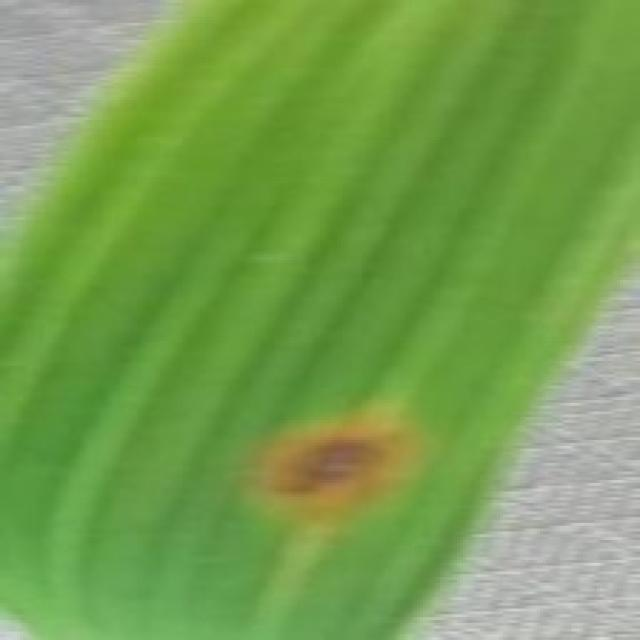Rice___Brown_Spot: (0, 0, 637, 637)
